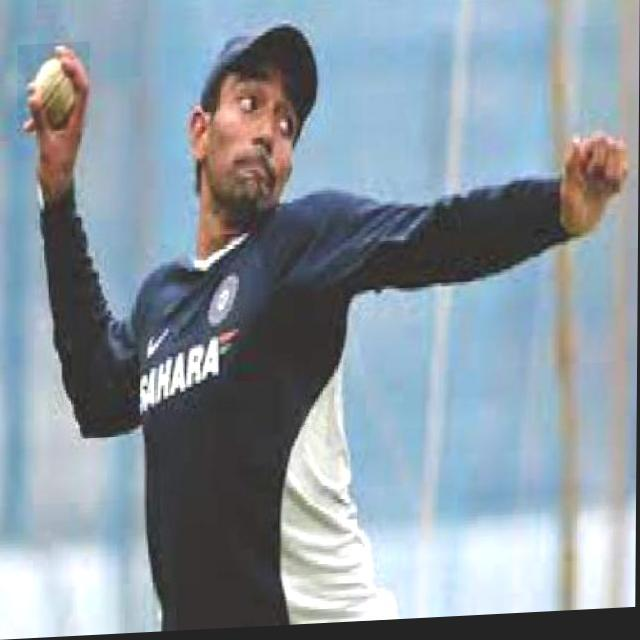-: (17, 42, 90, 132)
